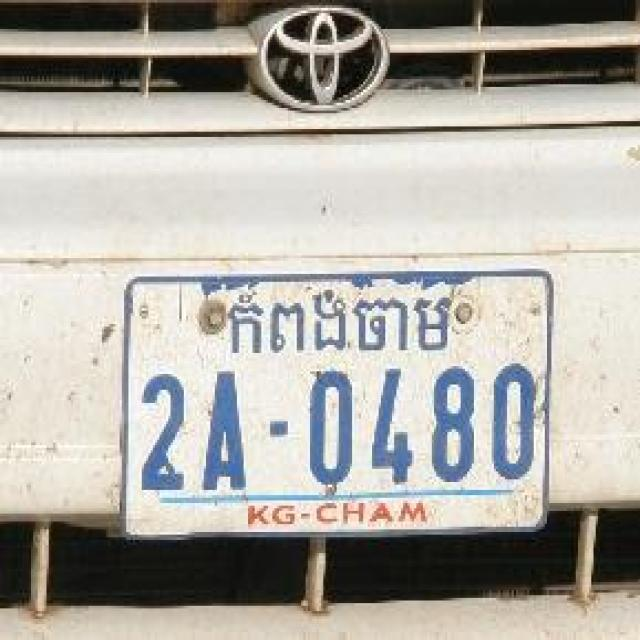Kampong_Cham: (228, 287, 452, 361)
